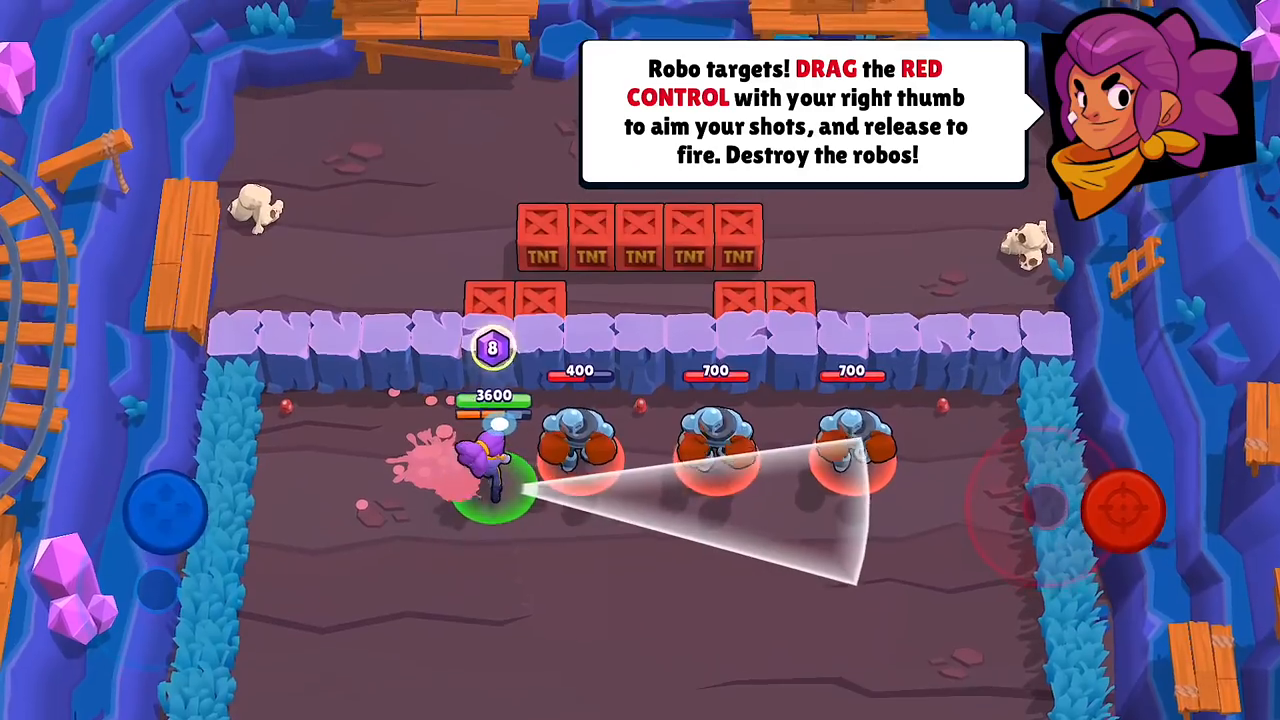move_stick: (123, 469, 205, 555)
red: (802, 351, 893, 502), (537, 358, 629, 500), (669, 358, 758, 498)
